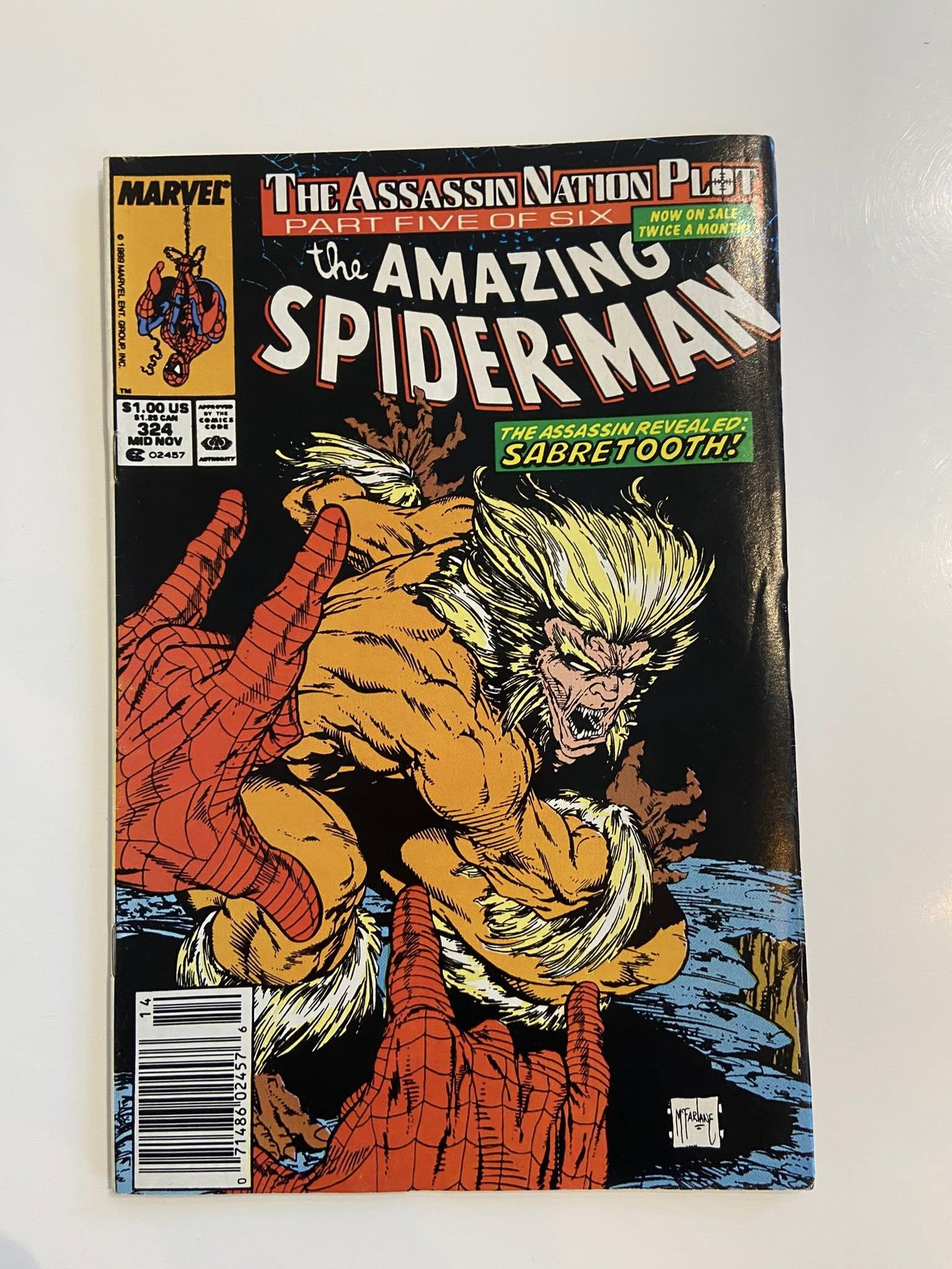comic: (106, 136, 812, 1194)
